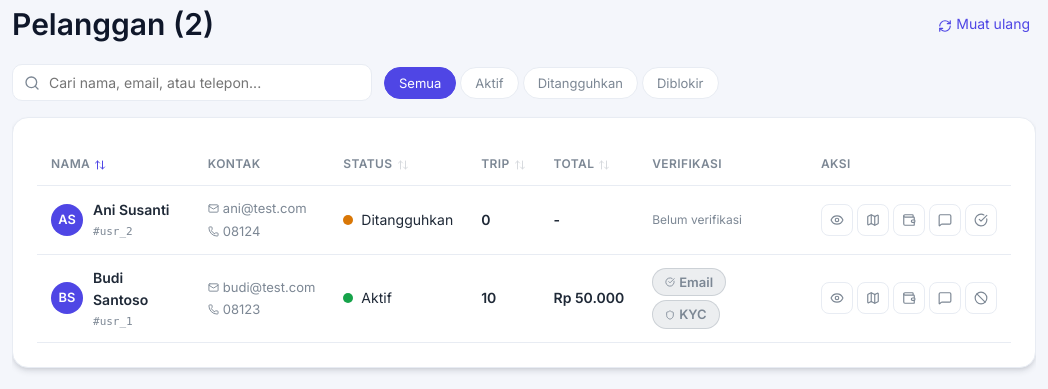
it: Customers › filters customers by search query
Check: the text "Budi Santoso" is shown, box top-left (93, 269), bottom-right (148, 308)
Type "Ani" into the field with placeholder "Cari nama, email, atau telepon...".
click(192, 82); type("Ani")  # box top-left (12, 64), bottom-right (372, 101)
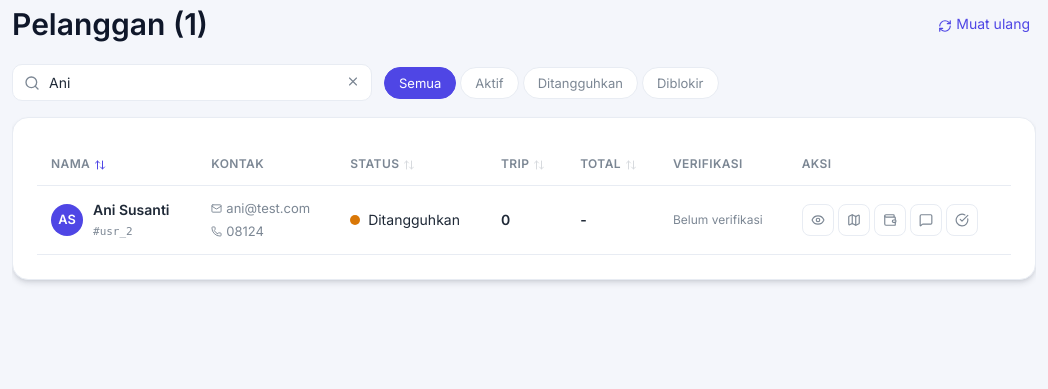
Check: the text "Ani Susanti" is shown, box top-left (93, 200), bottom-right (170, 222)
Check: the text "Budi Santoso" is gone
Check: the heading "Pelanggan (1)" is shown, box top-left (12, 0), bottom-right (208, 48)
